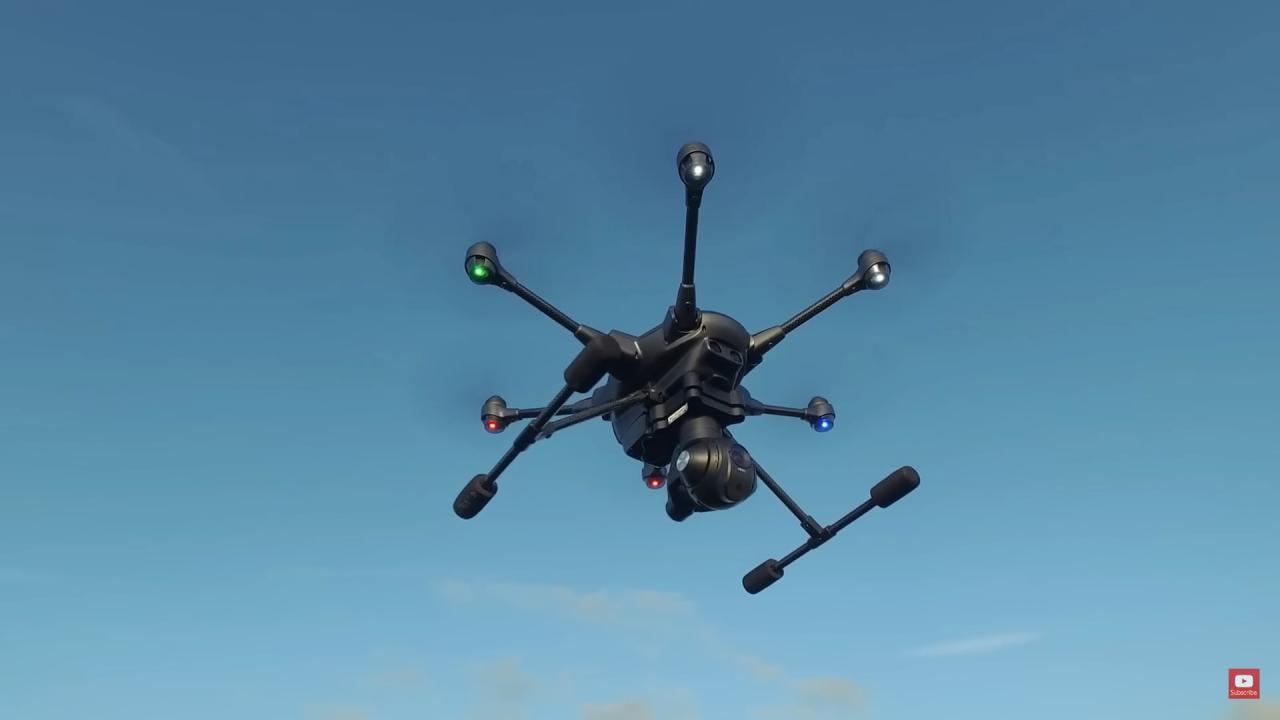Drone: (414, 101, 976, 623)
